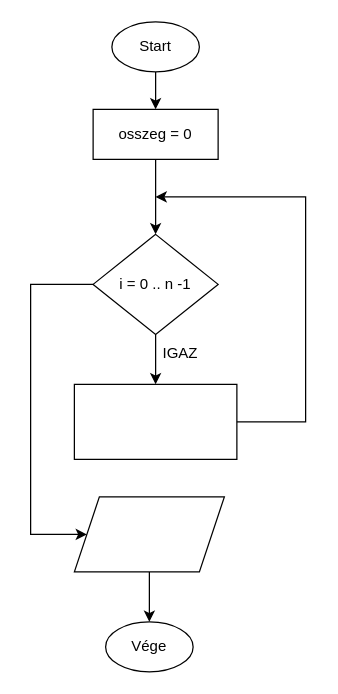
This 338x694 diagram has some shape labels left out. The centre of each missing label's shape, as x and y in pixels:
"KI: osszeg" goes at pixel 148 534.
"osszeg = osszeg + t{i}" goes at pixel 155 421.
